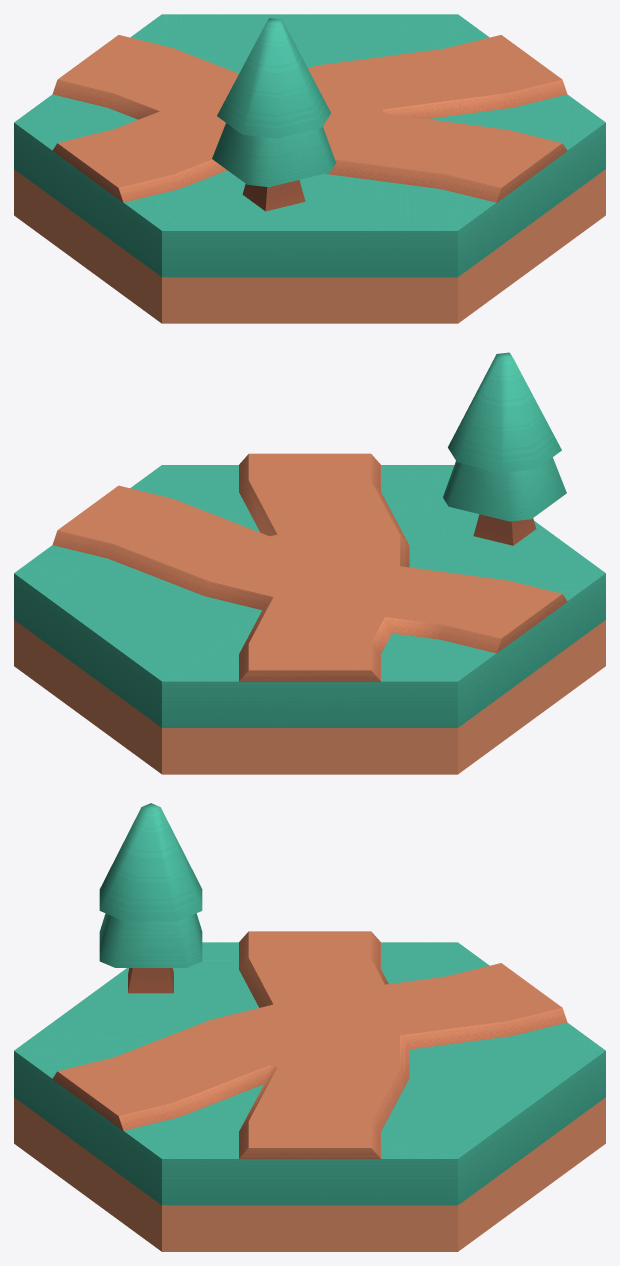
The model's file is grass-path-intersectionE-tree.glb.
The picture shows the model from 3 angles, top to bottom: view 1: azimuth 30°, elevation 25°; view 2: azimuth 150°, elevation 25°; view 3: azimuth 270°, elevation 25°; orthographic projection.
Visible parts, largest first — view 1: grass, path-intersectionE, unit-tree; view 2: grass, path-intersectionE, unit-tree; view 3: grass, path-intersectionE, unit-tree.
Part boxes in pixels (left/top/right/bottom): grass: left=14, top=14, right=605, bottom=323; path-intersectionE: left=52, top=35, right=567, bottom=202; unit-tree: left=212, top=18, right=335, bottom=211; grass: left=14, top=465, right=605, bottom=774; path-intersectionE: left=52, top=453, right=567, bottom=681; unit-tree: left=443, top=352, right=566, bottom=545; grass: left=14, top=942, right=605, bottom=1251; path-intersectionE: left=52, top=931, right=567, bottom=1159; unit-tree: left=99, top=803, right=202, bottom=993.
Bounding box in the file's own units: 1 × 0.603 × 1.15.
1 material, 1 textured.
